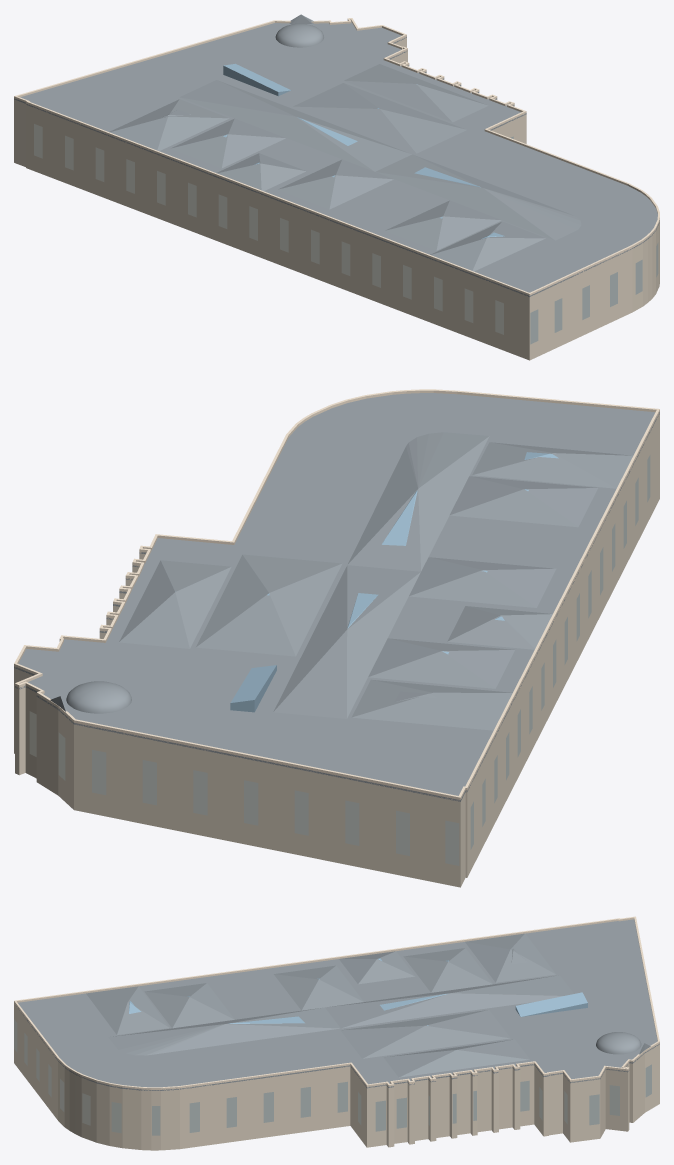
3 renders of one model, top to bottom at view 1: azimuth 30°, elevation 25°; view 2: azimuth 150°, elevation 25°; view 3: azimuth 270°, elevation 25°, orthographic. The views are drawn at different scales.
Visible parts, largest first — view 1: roof, stone, window, trim, glass; view 2: roof, stone, window, trim, glass; view 3: roof, stone, window, trim, glass.
Boxes of the visible parts, x1,y1,x2,y2 form: roof: (14,14,659,296); stone: (14,38,659,360); window: (34,124,658,344); trim: (14,18,659,296); glass: (223,63,504,239); roof: (14,393,659,801); stone: (14,414,659,887); window: (29,455,650,865); trim: (14,389,659,801); glass: (175,452,558,712); roof: (15,919,659,1090); stone: (14,1004,659,1150); window: (14,1019,651,1135); trim: (14,916,659,1090); glass: (129,958,587,1025).
Bounding box in the file's own units: 74.39 × 14 × 118.
